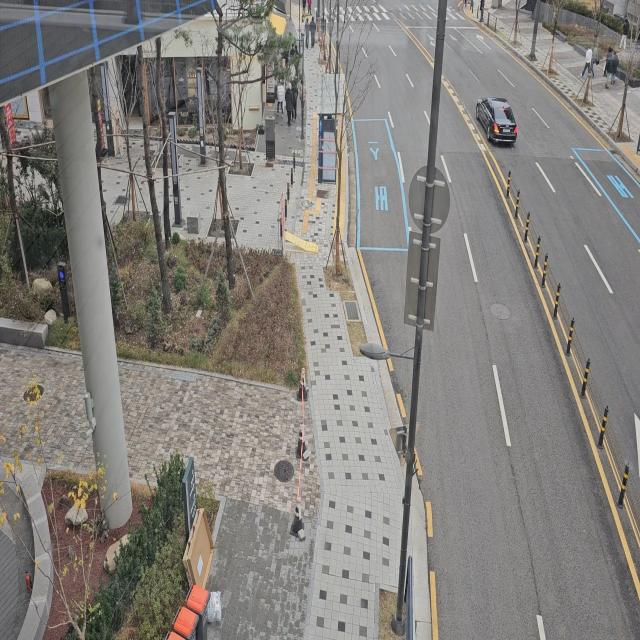Car: (473, 83, 521, 155)
